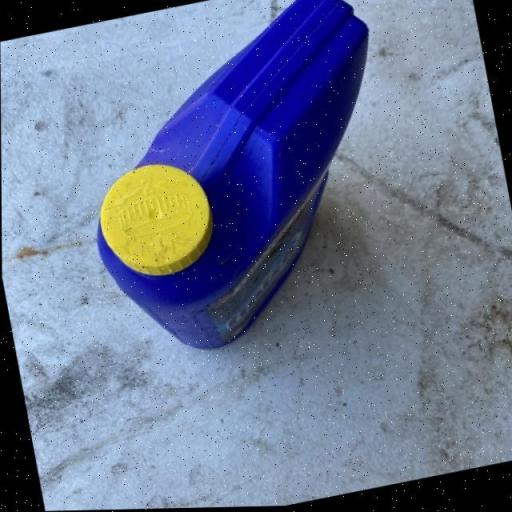plastic: (58, 0, 420, 369)
